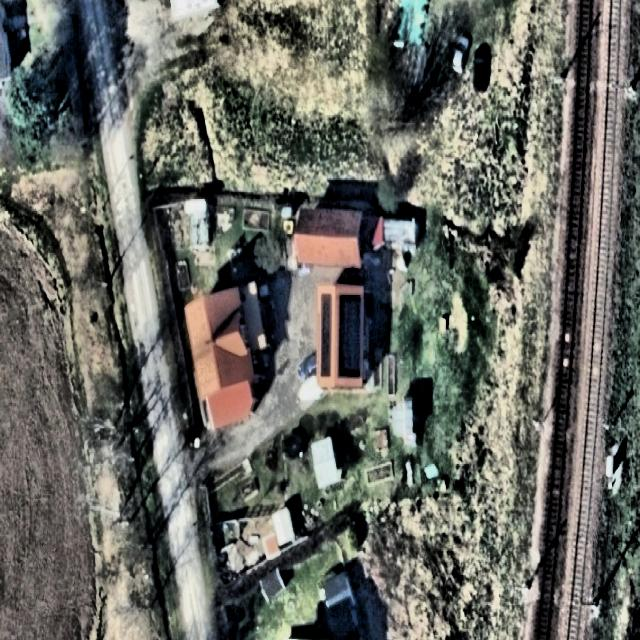roof_pv: (338, 296, 362, 378), (317, 296, 333, 380)
